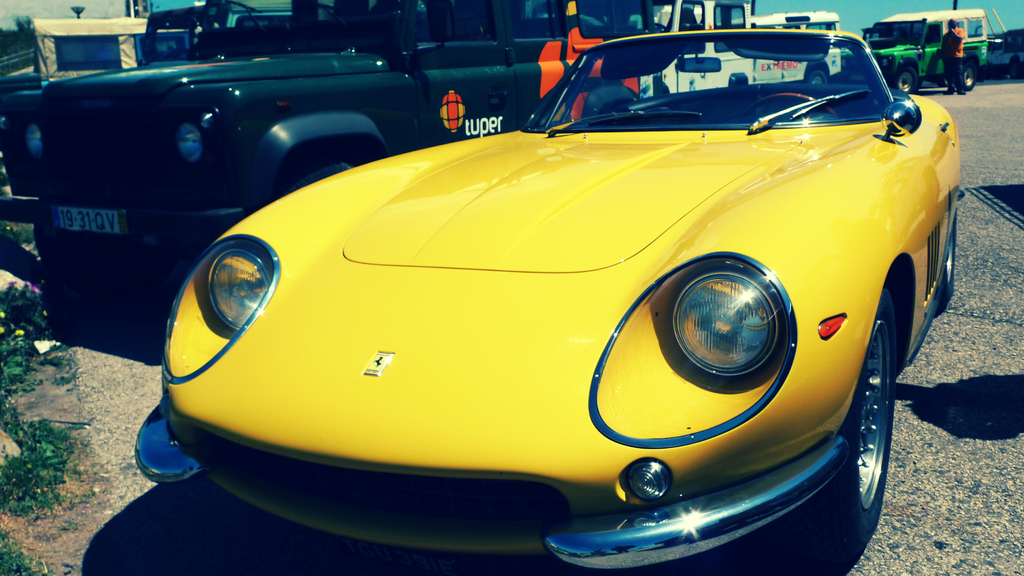person: (932, 21, 971, 95)
